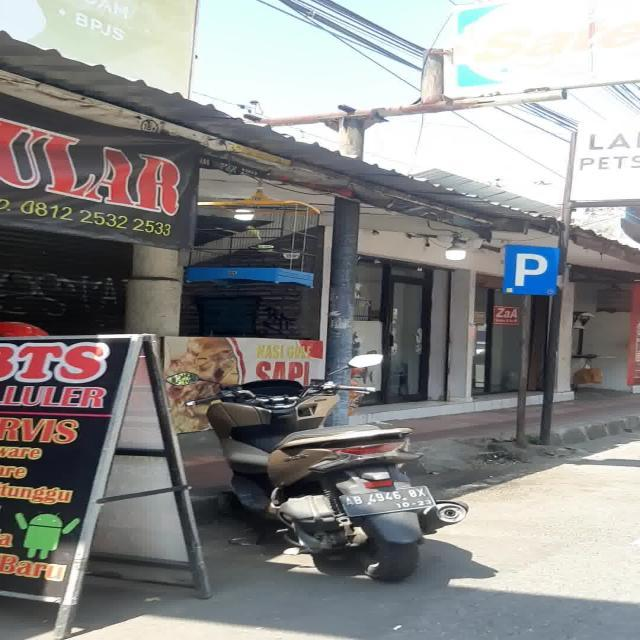Tempat Parkir: (502, 244, 558, 296)
